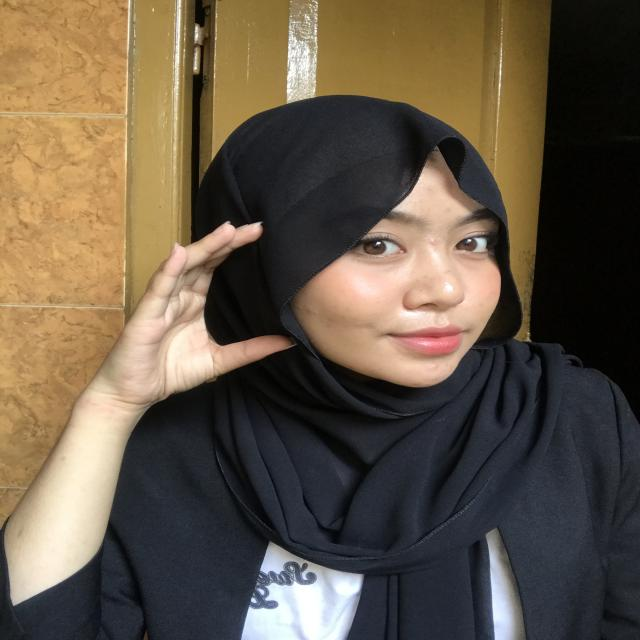mendengar: (105, 213, 292, 423)
